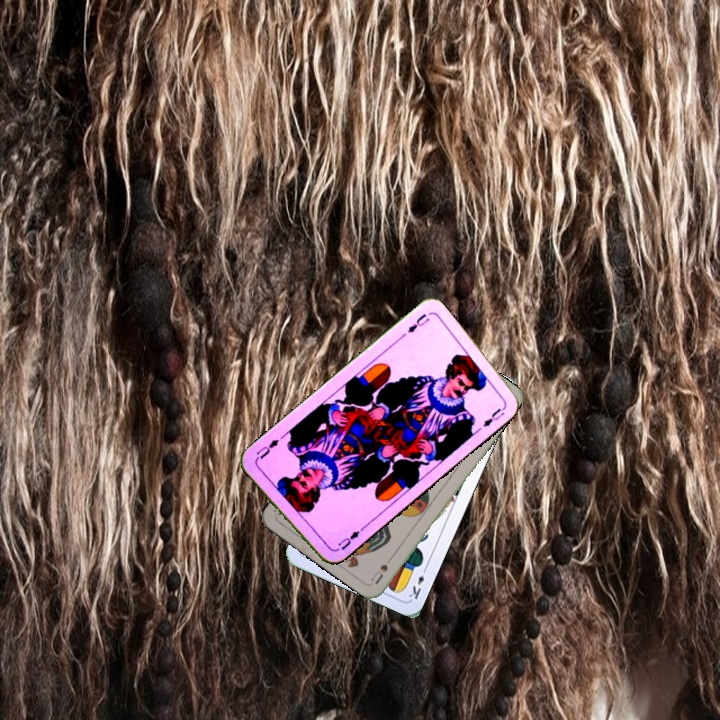EK: (405, 563, 430, 602)
EU: (334, 524, 365, 553), (403, 310, 432, 335)
SU: (368, 549, 398, 586)
